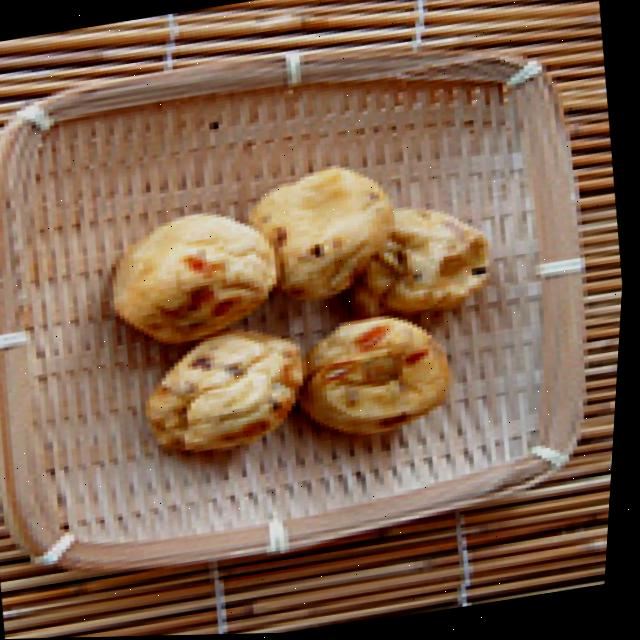熟制海鲜: (69, 133, 560, 543)
